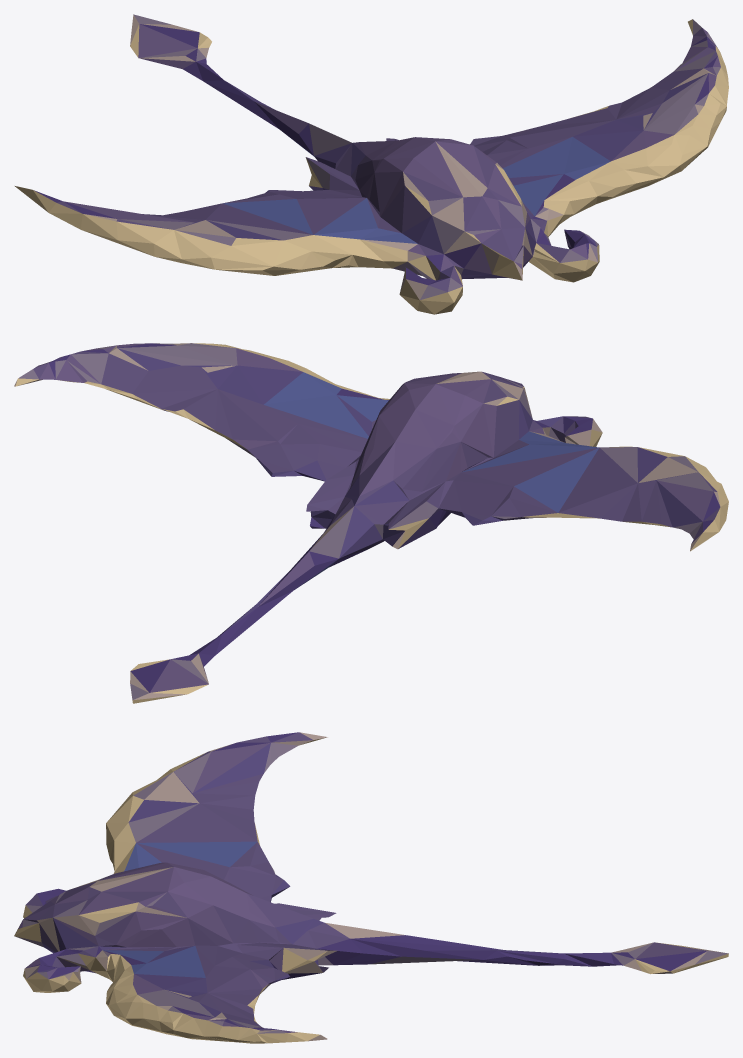
The model's file is drift-ray.glb.
The picture shows the model from 3 angles, top to bottom: view 1: azimuth 30°, elevation 25°; view 2: azimuth 150°, elevation 25°; view 3: azimuth 270°, elevation 25°; orthographic projection. The views are drawn at different scales.
Parts seen in each view (by area): view 1: drift-ray; view 2: drift-ray; view 3: drift-ray.
Part boxes in pixels (box(x1,y1,x2,y2)): drift-ray: box(15, 14, 728, 314); drift-ray: box(14, 343, 728, 703); drift-ray: box(14, 732, 728, 1043).
Size of the model in its own units: 5.39 by 0.8161 by 5.36.
